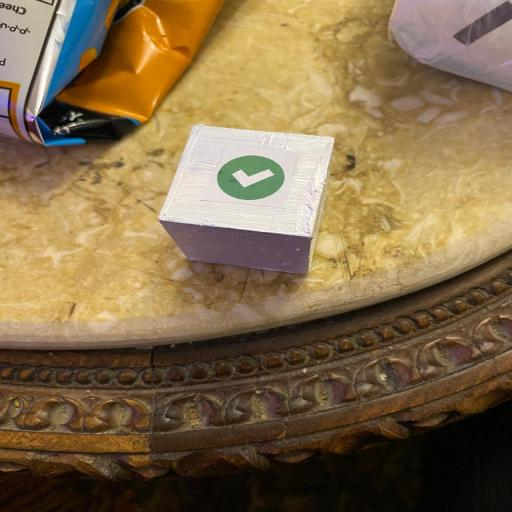Confirm: (158, 124, 334, 273)
